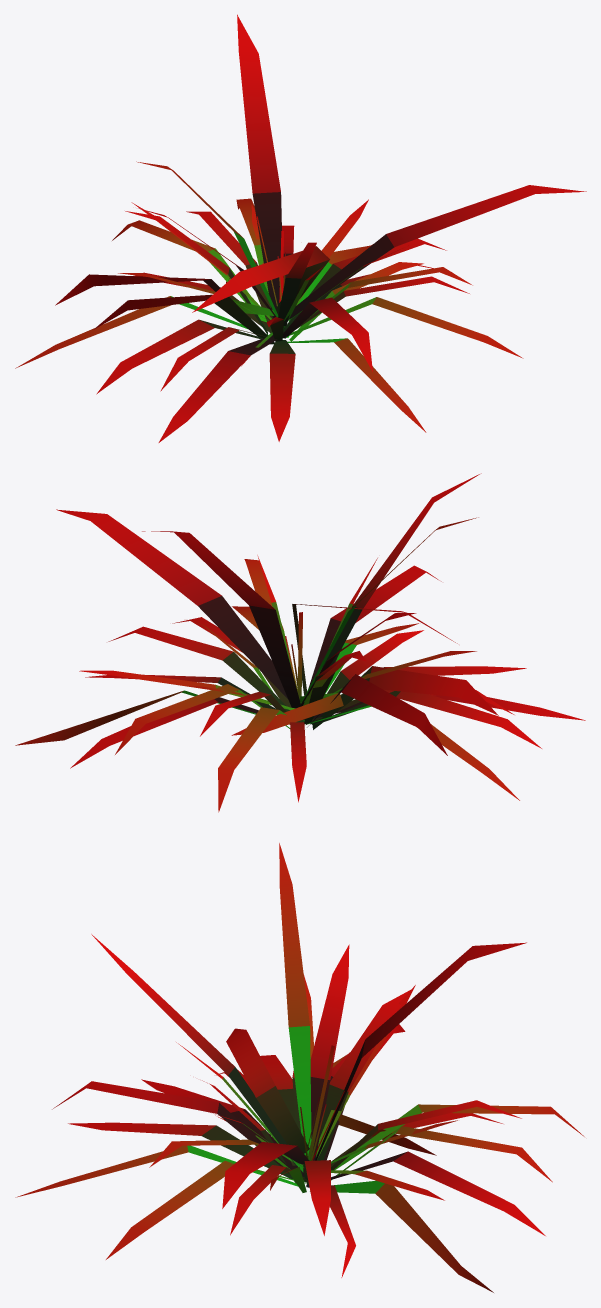
The model's file is Ribbon Plant_LOD4_Var3_rhDrj.fbx.
3 views of the same model, one above another, from view 1: azimuth 30°, elevation 25°; view 2: azimuth 150°, elevation 25°; view 3: azimuth 270°, elevation 25° (orthographic). The views are drawn at different scales.
Parts seen in each view (by area): view 1: _6994_Var3_LOD4; view 2: _6994_Var3_LOD4; view 3: _6994_Var3_LOD4.
Part boxes in pixels (x1,y1,x2,y2): _6994_Var3_LOD4: [15, 14, 586, 442]; _6994_Var3_LOD4: [15, 473, 585, 812]; _6994_Var3_LOD4: [15, 843, 584, 1292].
Bounding box in the file's own units: 61.76 × 28.73 × 53.56.
